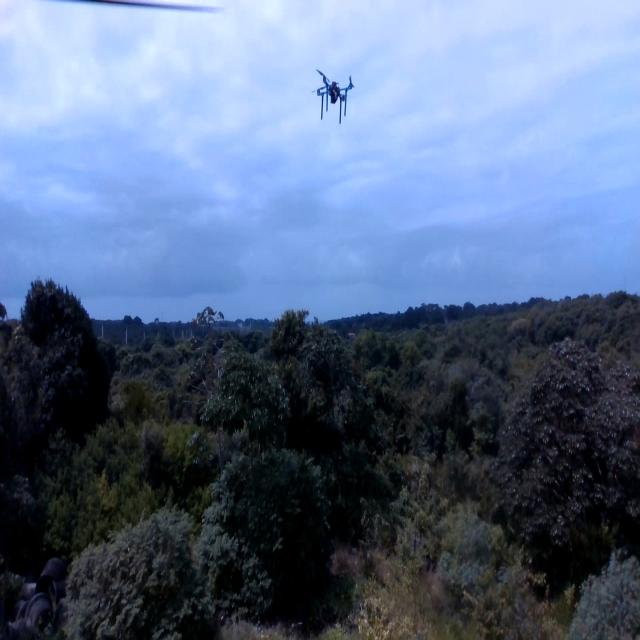-uav-: (300, 58, 366, 134)
